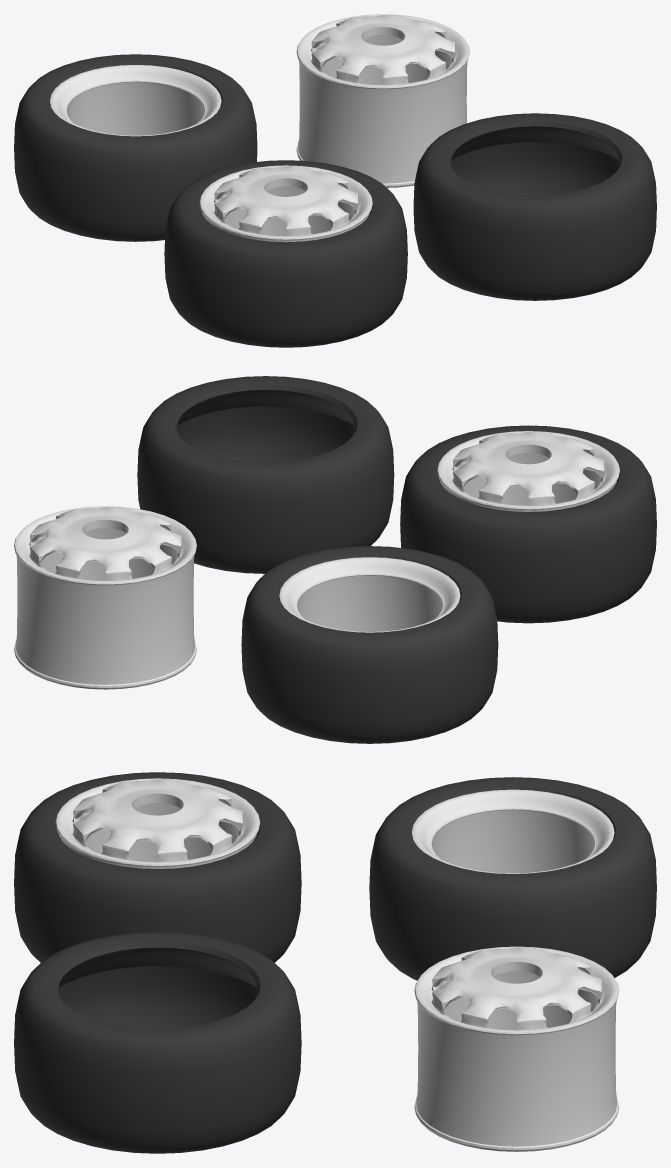
Rendered from wheel4.fbx.
3 views of the same model, one above another, from view 1: azimuth 30°, elevation 25°; view 2: azimuth 150°, elevation 25°; view 3: azimuth 270°, elevation 25° (orthographic). The views are drawn at different scales.
Visible parts, largest first — view 1: Whell done, Whell done.003, Whell done.002, Whell done.005, Whell done.004, Whell done.001; view 2: Whell done, Whell done.002, Whell done.005, Whell done.003, Whell done.004, Whell done.001; view 3: Whell done, Whell done.005, Whell done.002, Whell done.003, Whell done.004, Whell done.001.
Part boxes in pixels (bbox=[...]): Whell done: bbox=[413, 113, 656, 300]; Whell done.003: bbox=[164, 160, 407, 347]; Whell done.002: bbox=[14, 54, 257, 241]; Whell done.005: bbox=[296, 14, 469, 187]; Whell done.004: bbox=[199, 165, 372, 242]; Whell done.001: bbox=[50, 65, 221, 136]; Whell done: bbox=[137, 376, 394, 573]; Whell done.002: bbox=[241, 546, 498, 743]; Whell done.005: bbox=[14, 506, 196, 689]; Whell done.003: bbox=[400, 425, 656, 623]; Whell done.004: bbox=[437, 431, 619, 511]; Whell done.001: bbox=[279, 557, 460, 632]; Whell done: bbox=[14, 932, 301, 1153]; Whell done.005: bbox=[414, 946, 619, 1151]; Whell done.002: bbox=[369, 777, 656, 980]; Whell done.003: bbox=[14, 772, 301, 962]; Whell done.004: bbox=[55, 778, 260, 868]; Whell done.001: bbox=[412, 789, 614, 873].
Bounding box in the file's own units: 220 × 63.38 × 225.
